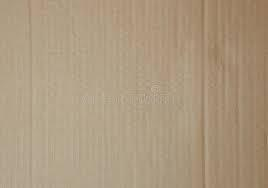Cardboard: (0, 1, 268, 188)
